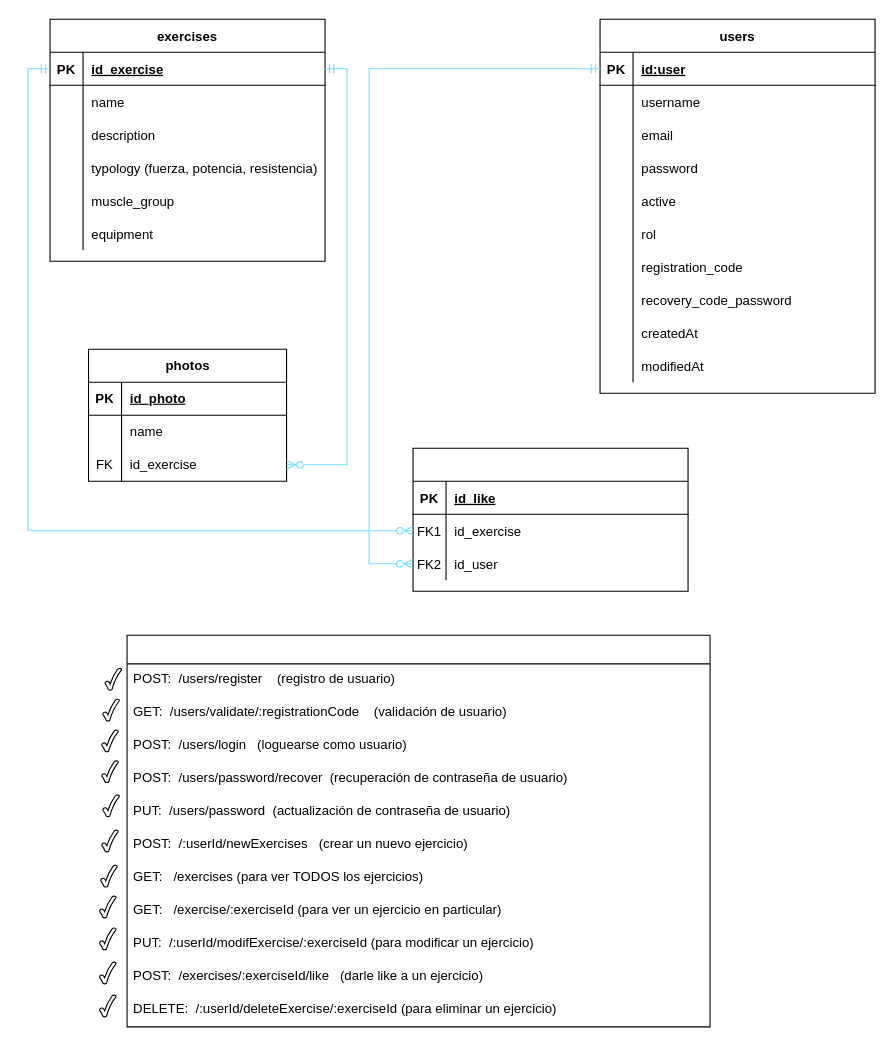
Image size: 894x1049. Some labels were removed from this diagram. The box of each missing label's shape, as (x1, y1, x2, y2) in pixels:
ENDPOINTS: (126, 634, 710, 1027)
likes: (412, 447, 688, 591)
